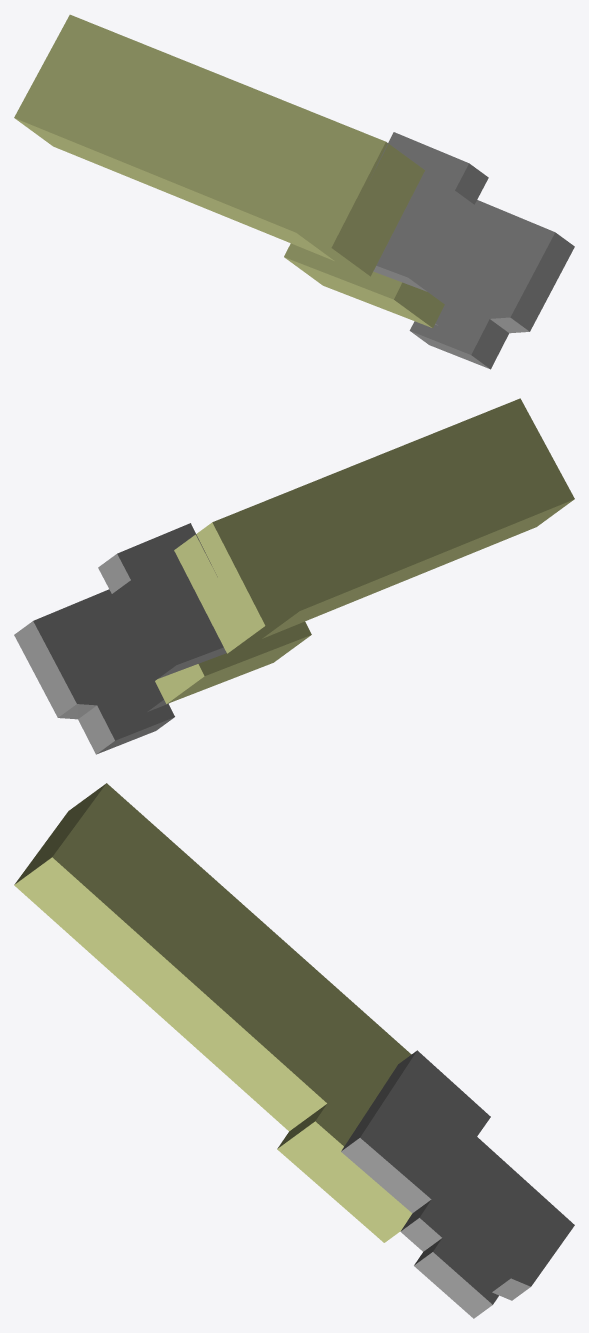
The picture shows the model from 3 angles, top to bottom: view 1: azimuth 30°, elevation 25°; view 2: azimuth 150°, elevation 25°; view 3: azimuth 330°, elevation 25°; orthographic projection. The views are drawn at different scales.
Visible parts, largest first — view 1: 0_1_0_2_0_0_0_3_2; view 2: 0_1_0_2_0_0_0_3_2; view 3: 0_1_0_2_0_0_0_3_2.
Boxes of the visible parts, box(x1,y1,x2,y2) form: 0_1_0_2_0_0_0_3_2: box(14, 14, 574, 369); 0_1_0_2_0_0_0_3_2: box(14, 398, 574, 754); 0_1_0_2_0_0_0_3_2: box(14, 783, 574, 1318).
Size of the model in its own units: 47.58 by 36.8 by 6.
